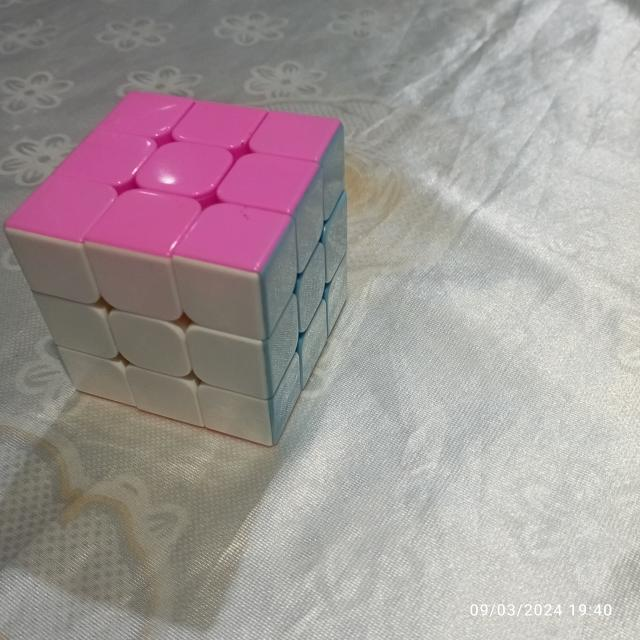Rub: (0, 78, 361, 454)
